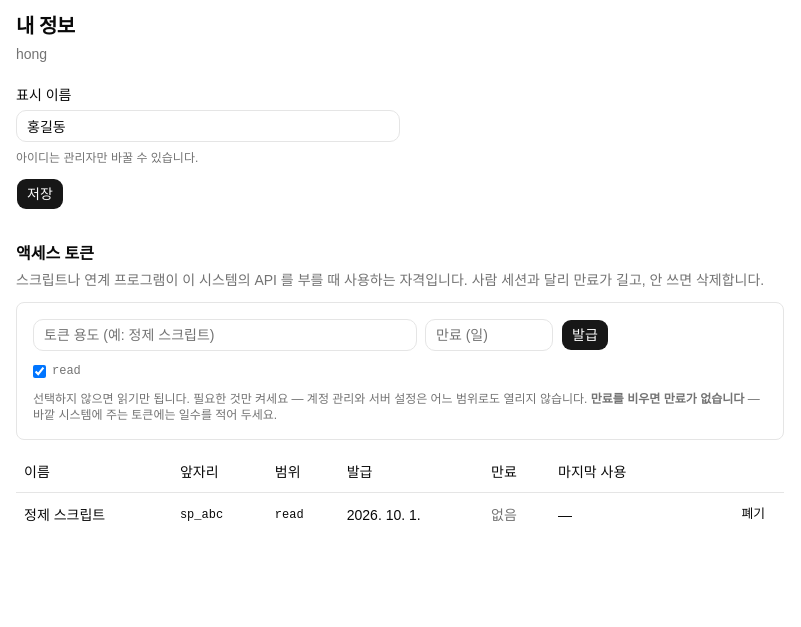
it: 토큰 폐기 › 서버가 거절하면 그 이유가 보인다
Click the button "폐기" at (753, 514), box x1=730 y1=500 x2=776 y2=528
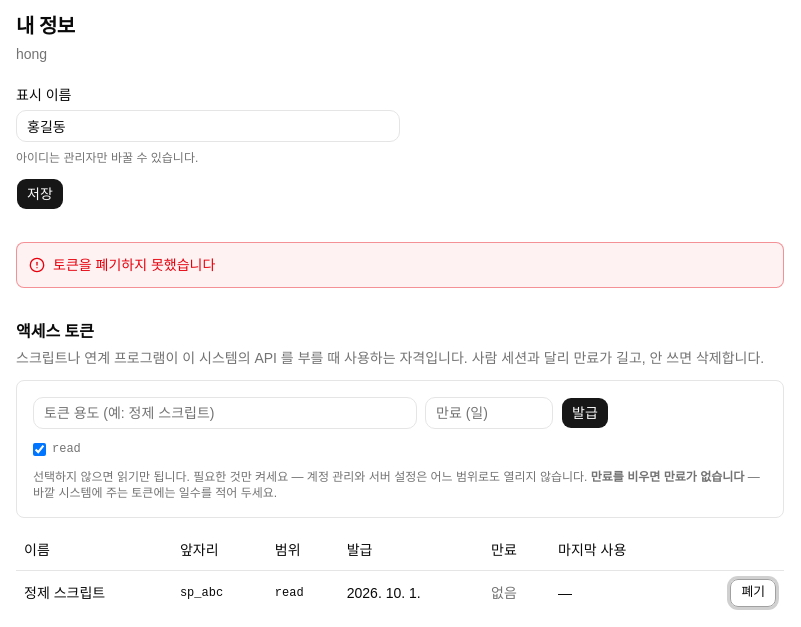
Result: the text "토큰을 폐기하지 못했습니다" is shown at x1=53 y1=255 x2=215 y2=275
